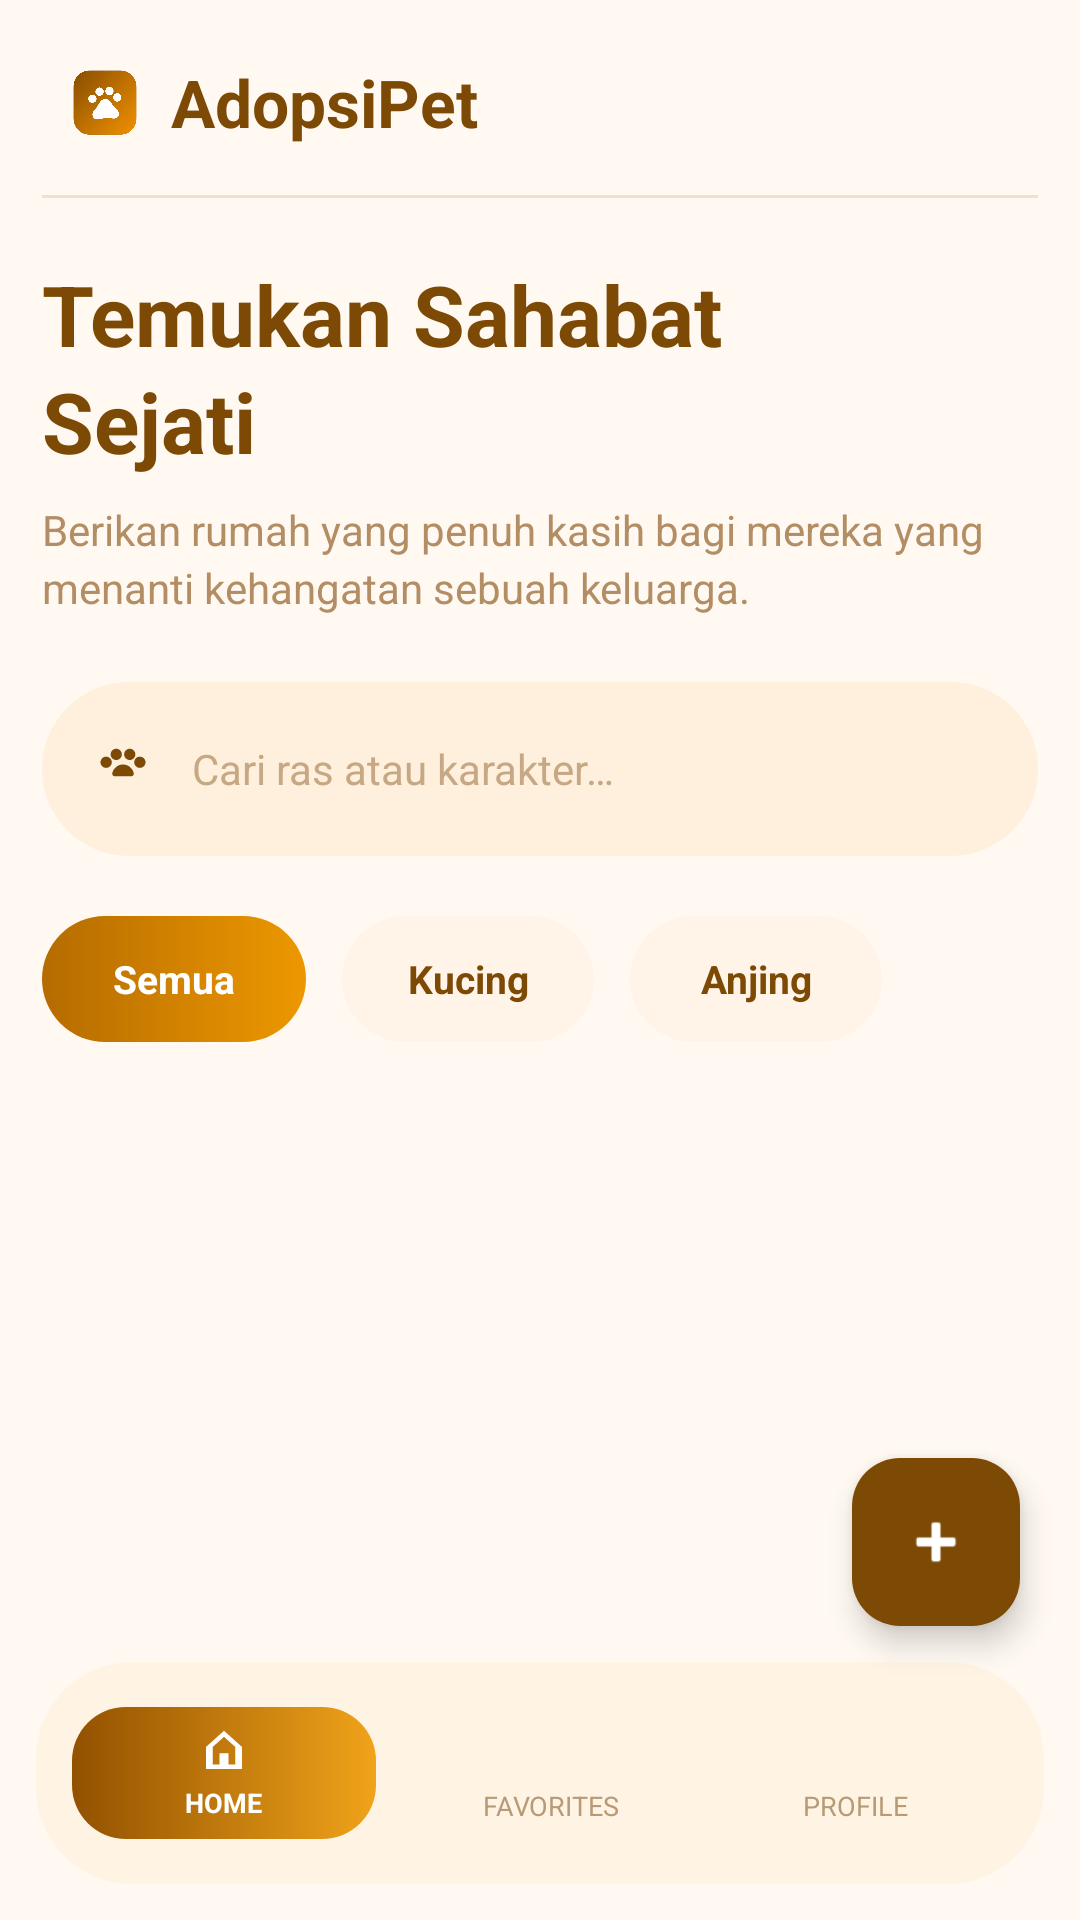

Icon click points for this 1080 × 1920 phone screenshot, format (x=x, y=y):
Tambah pet baru: (x=936, y=1542)
